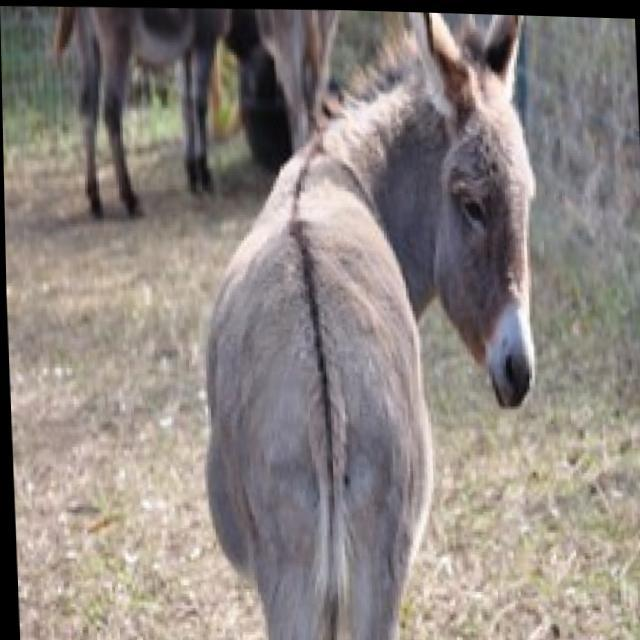Donkey: (186, 4, 554, 640), (52, 2, 252, 222), (231, 5, 360, 166)
